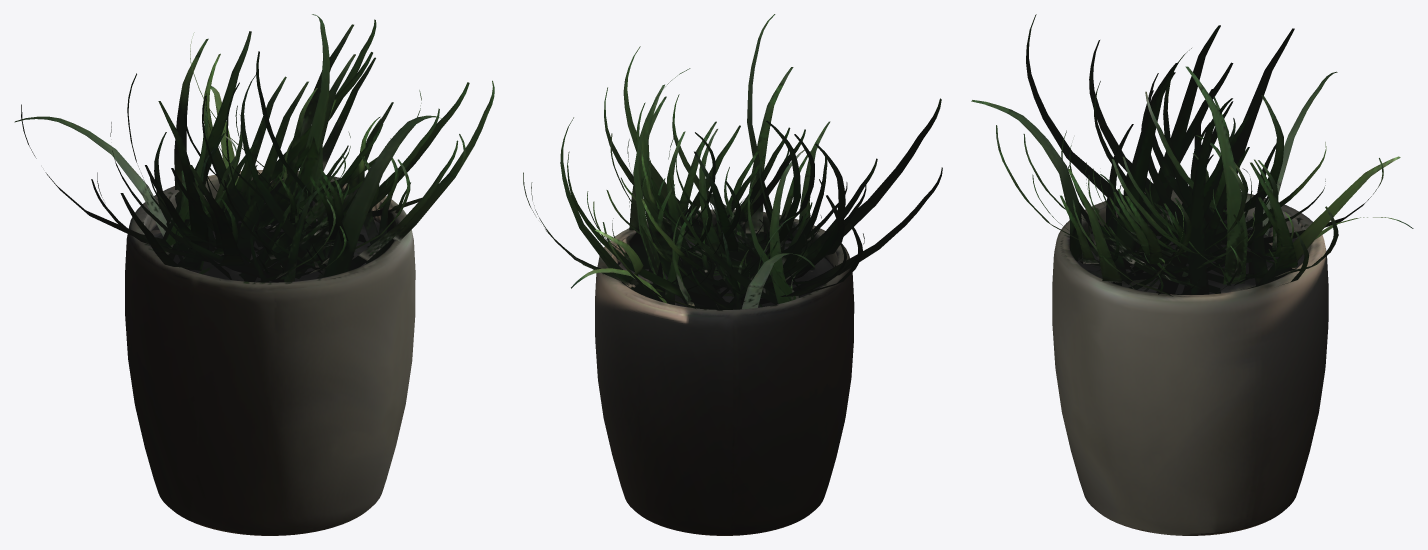
The model's file is plant.glb.
3 renders of one model, left to right at view 1: azimuth 30°, elevation 25°; view 2: azimuth 150°, elevation 25°; view 3: azimuth 270°, elevation 25°, orthographic. The views are drawn at different scales.
Visible parts, largest first — view 1: plant_Baked; view 2: plant_Baked; view 3: plant_Baked.
Part boxes in pixels (x1=…): plant_Baked: x1=14, y1=14, x2=494, y2=535; plant_Baked: x1=523, y1=14, x2=942, y2=535; plant_Baked: x1=971, y1=14, x2=1413, y2=535.
Size of the model in its own units: 0.8624 by 1.06 by 0.957.
1 material, 1 textured.
